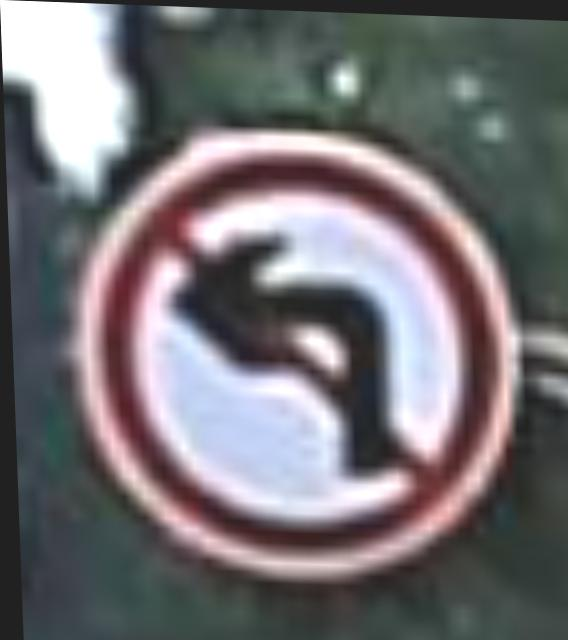not_turn_left: (73, 121, 510, 563)
